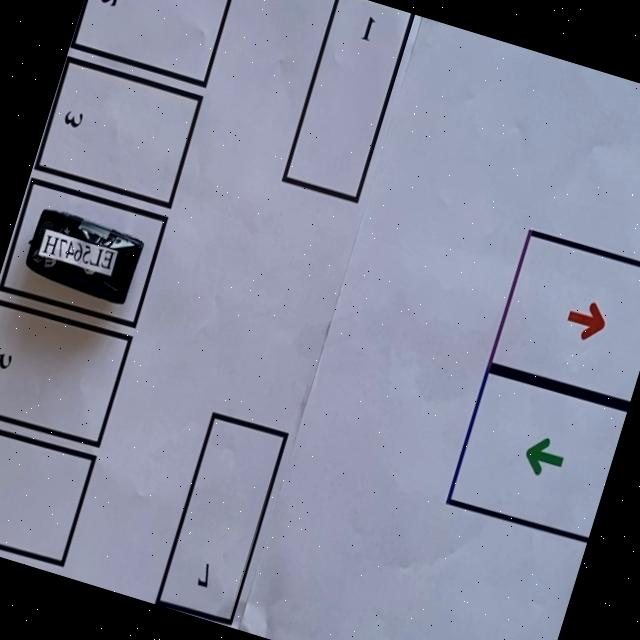car: (14, 201, 150, 313)
